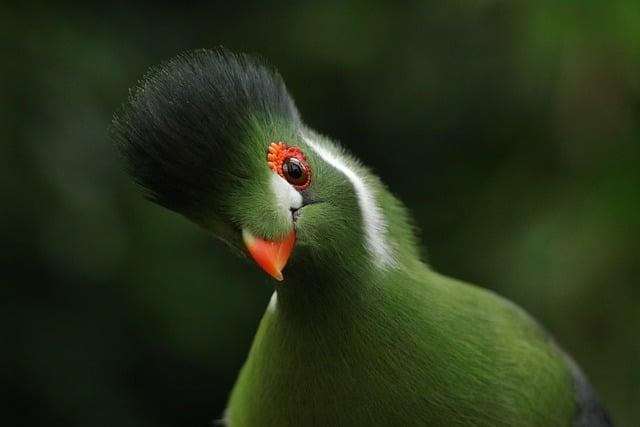bird: (113, 47, 612, 426)
